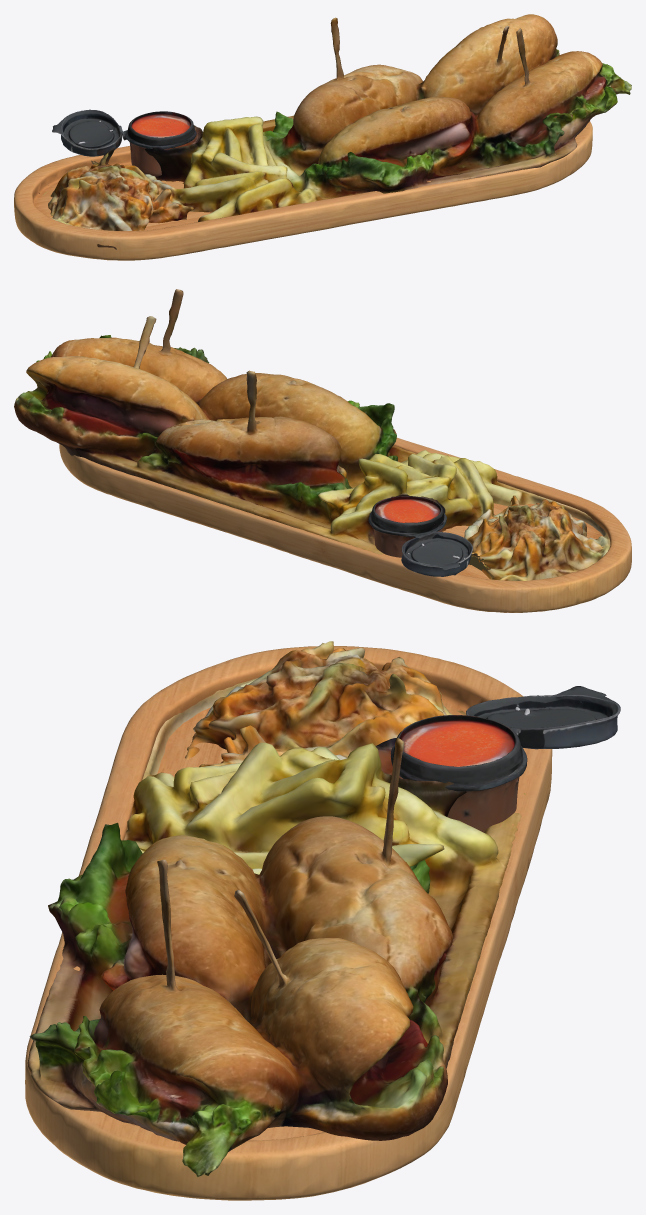
The model's file is sandwich4.rose.glb.
The picture shows the model from 3 angles, top to bottom: view 1: azimuth 30°, elevation 25°; view 2: azimuth 150°, elevation 25°; view 3: azimuth 270°, elevation 25°; orthographic projection. The views are drawn at different scales.
Parts seen in each view (by area): view 1: 3DModel, Mesh_0.004, Mesh_0.002; view 2: 3DModel, Mesh_0.004, Mesh_0.002; view 3: 3DModel, Mesh_0.004, Mesh_0.002.
Part boxes in pixels (x1,y1,x2,y2): 3DModel: (43, 14, 631, 249); Mesh_0.004: (14, 121, 592, 260); Mesh_0.002: (52, 109, 196, 176); 3DModel: (14, 289, 610, 580); Mesh_0.004: (59, 437, 631, 612); Mesh_0.002: (368, 496, 472, 576); 3DModel: (27, 641, 525, 1177); Mesh_0.004: (25, 646, 552, 1200); Mesh_0.002: (390, 686, 620, 832).
Bounding box in the file's own units: 0.4383 × 0.1 × 0.1974.
Materials: 3 (3 with a texture image).
